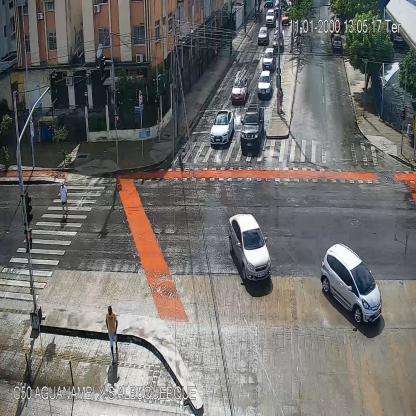car: (321, 243, 383, 328), (228, 214, 272, 283), (240, 104, 264, 149), (209, 108, 234, 148), (230, 71, 249, 102), (258, 70, 273, 97), (263, 47, 275, 71), (257, 26, 268, 44), (332, 35, 342, 51), (265, 8, 274, 25)
person: (106, 305, 118, 364), (60, 182, 68, 218), (213, 44, 218, 64), (280, 87, 283, 113), (296, 34, 299, 50)
